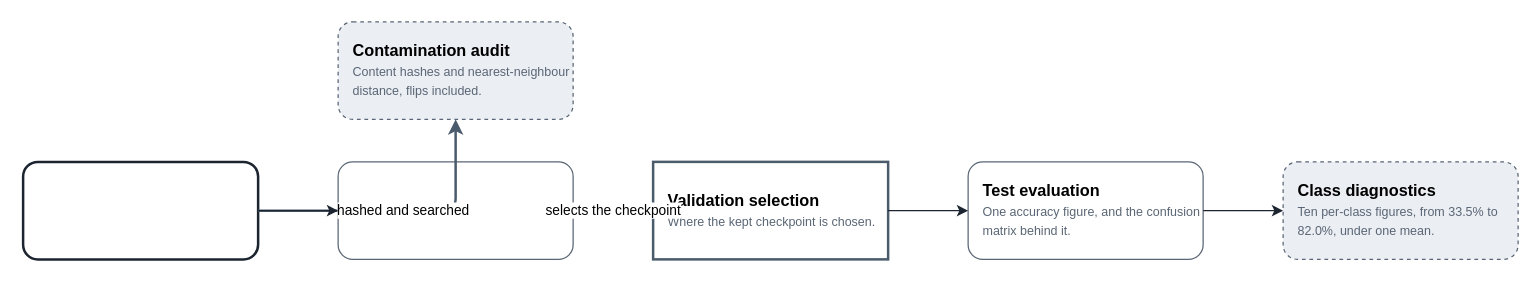
The diagram is 1540 pixels wide and 283 high, and some of its shapes have lost their labels. Each missing label, with the box of its shape:
CIFAR-10 subset Seeded splits, fixed before anything is trained.: (21, 160, 259, 260)
CNN training A small convolutional network, trained from scratch.: (337, 161, 573, 259)
